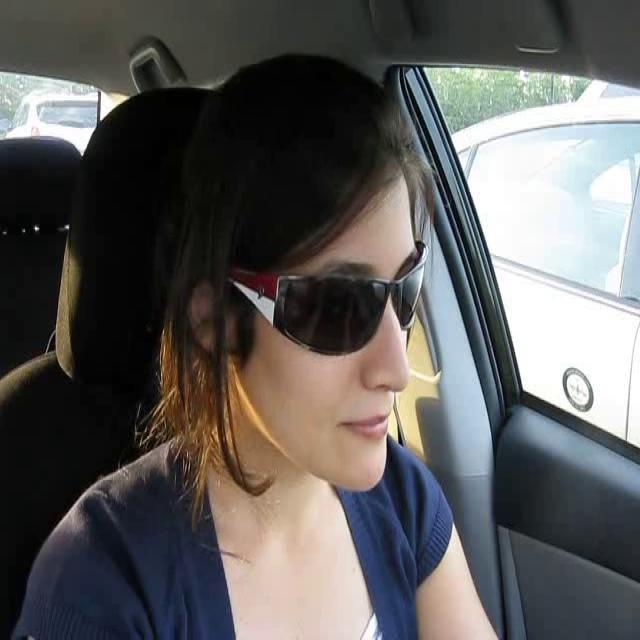close: (336, 406, 393, 446)
